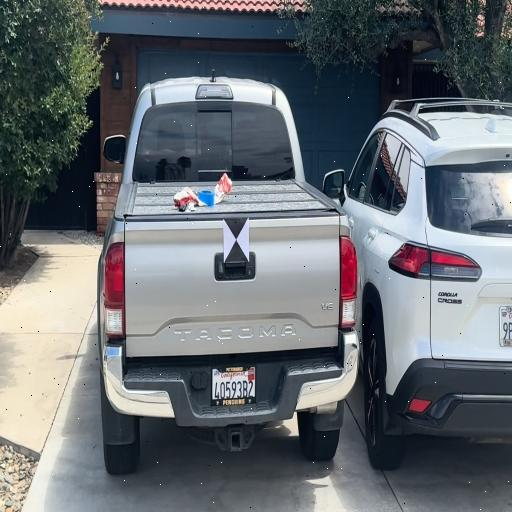target: (223, 219, 249, 261)
